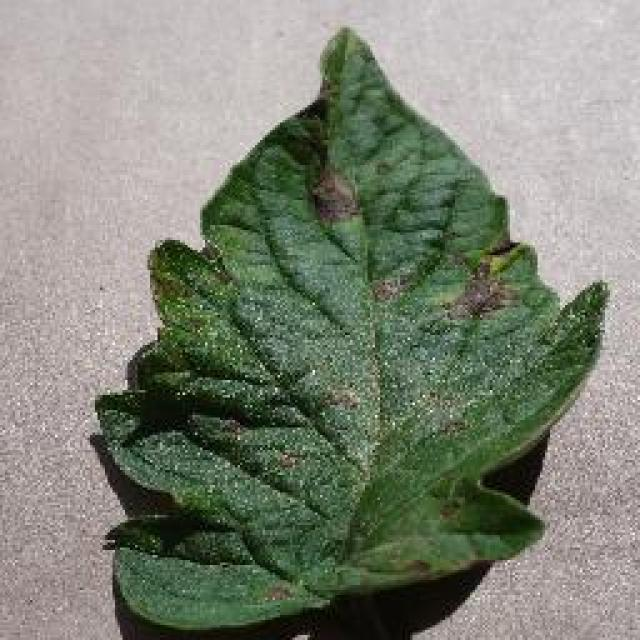Tomato_Early_Blight: (293, 46, 560, 408)
